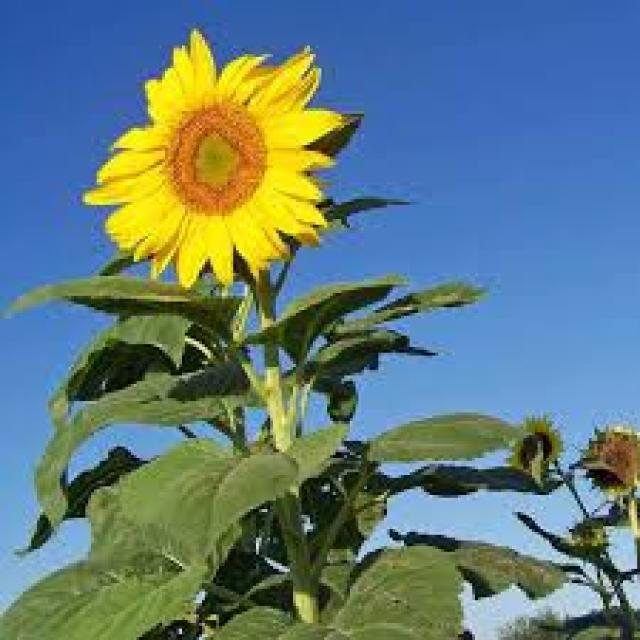sunflower: (74, 22, 363, 292)
